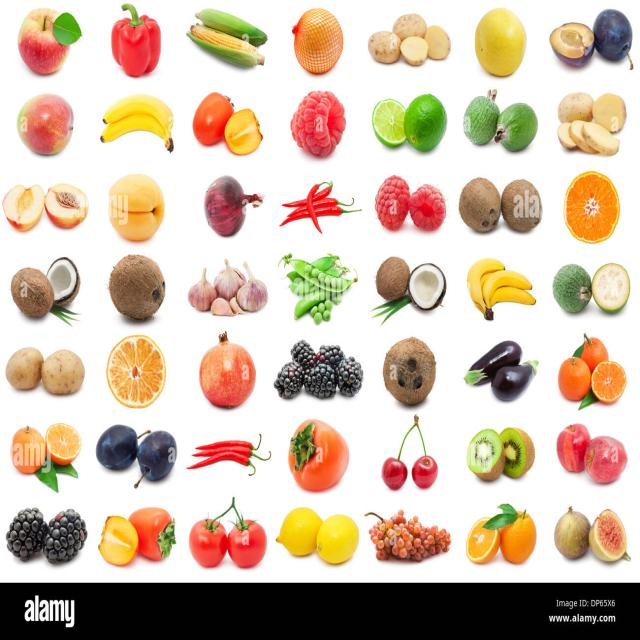Apple: (16, 6, 78, 74), (15, 90, 76, 157), (583, 438, 628, 485), (552, 423, 592, 472)
Banana: (100, 102, 180, 149)
Bananas: (459, 260, 540, 317)
Capsicum: (106, 4, 162, 76), (197, 6, 275, 42)
Cherry: (382, 416, 408, 489), (412, 417, 438, 489)
Chilli: (278, 184, 344, 206), (304, 180, 329, 230), (279, 205, 362, 218)
Coconut: (107, 253, 169, 320), (379, 336, 438, 404), (500, 180, 552, 234), (459, 178, 505, 234), (9, 269, 54, 317), (410, 260, 446, 310), (375, 257, 411, 304), (50, 258, 82, 306)
Corn: (185, 26, 272, 70), (197, 2, 276, 40)
Kiwi: (466, 431, 507, 481), (500, 424, 535, 478)
Lemon: (103, 337, 170, 404), (406, 93, 447, 152), (316, 513, 360, 563), (276, 506, 318, 558), (501, 504, 536, 564), (460, 515, 500, 565), (373, 98, 408, 149)
Onion: (194, 177, 264, 236)
Orange: (564, 174, 621, 240), (558, 354, 596, 402), (10, 432, 49, 476), (47, 421, 82, 470), (593, 362, 628, 402), (574, 334, 612, 367)
Potato: (557, 89, 627, 154), (41, 352, 89, 396), (7, 349, 42, 396), (369, 30, 405, 65), (558, 91, 594, 122), (400, 37, 436, 66), (425, 24, 452, 60), (391, 14, 429, 36)
Tomato: (226, 507, 268, 568), (187, 518, 227, 569)
